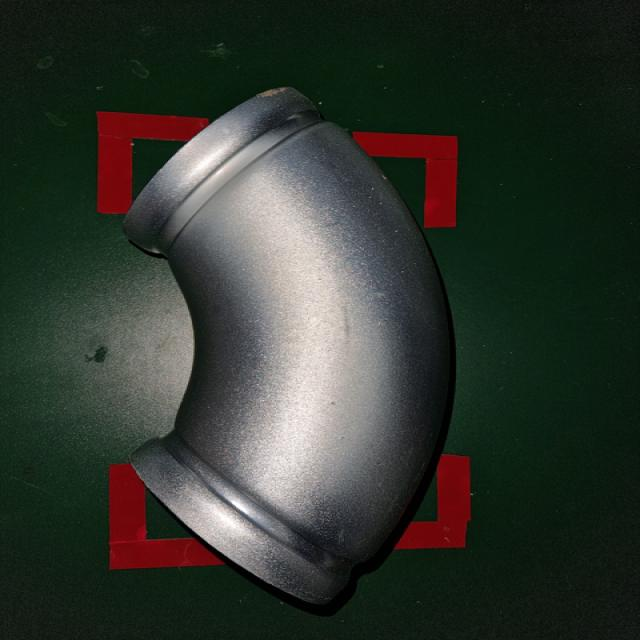Normal: (117, 80, 468, 610)
